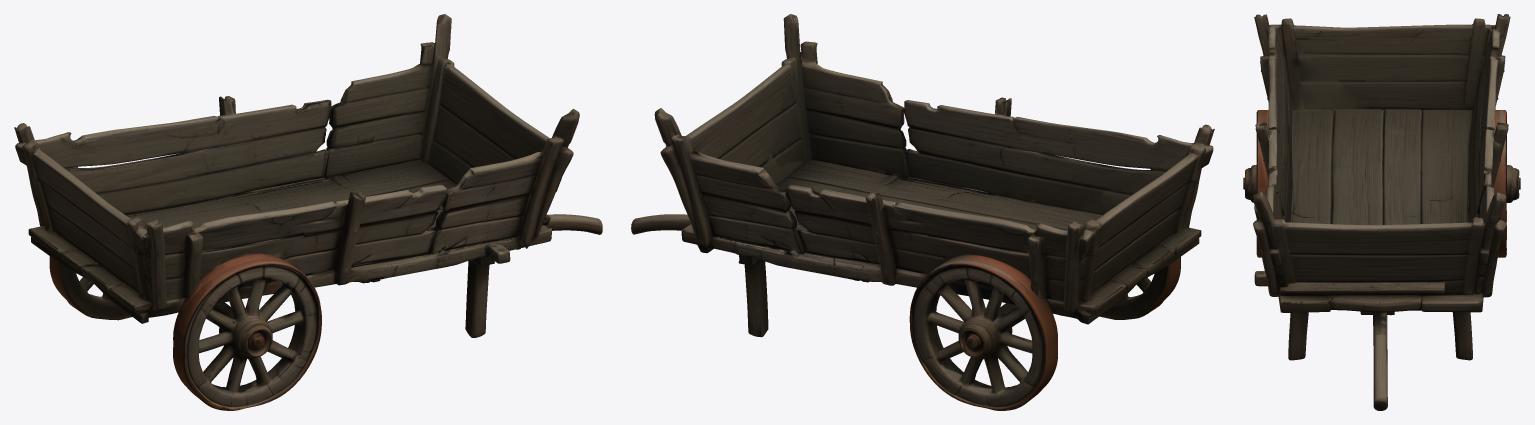
Rendered from OldCart.glb.
The picture shows the model from 3 angles, left to right: view 1: azimuth 30°, elevation 25°; view 2: azimuth 150°, elevation 25°; view 3: azimuth 270°, elevation 25°; orthographic projection. The views are drawn at different scales.
Visible parts, largest first — view 1: node_0; view 2: node_0; view 3: node_0.
Boxes of the visible parts, left/top/right/bottom form: node_0: left=14, top=14, right=602, bottom=410; node_0: left=631, top=14, right=1214, bottom=410; node_0: left=1243, top=14, right=1520, bottom=410.
Bounding box in the file's own units: 1.05 × 0.4259 × 0.5296.
Materials: 1 (1 with a texture image).
